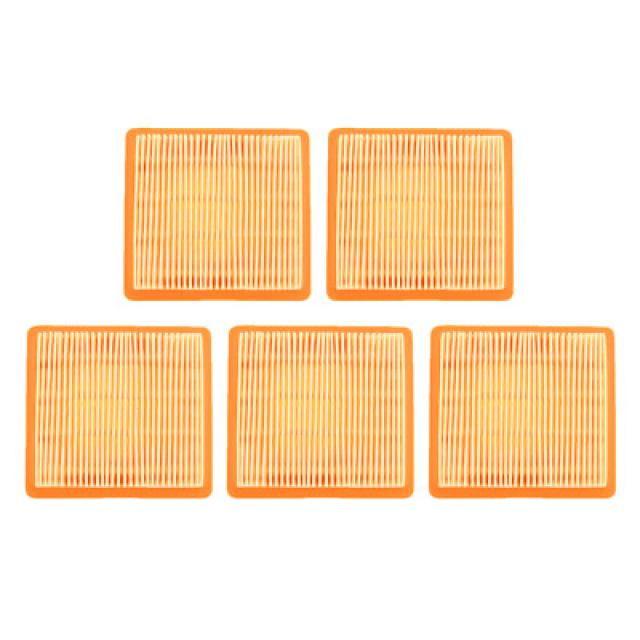air_filter: (116, 120, 315, 309), (324, 120, 526, 304), (22, 318, 216, 509), (222, 319, 420, 506), (426, 320, 621, 506)
